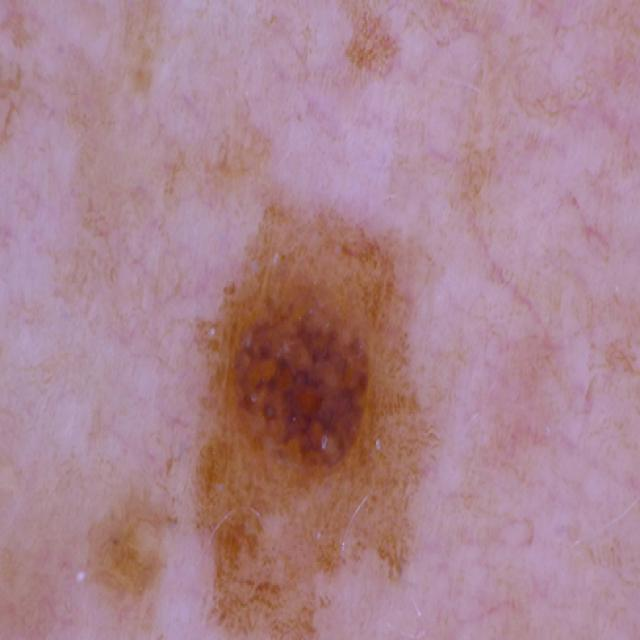Keratosis: (62, 133, 566, 640)
